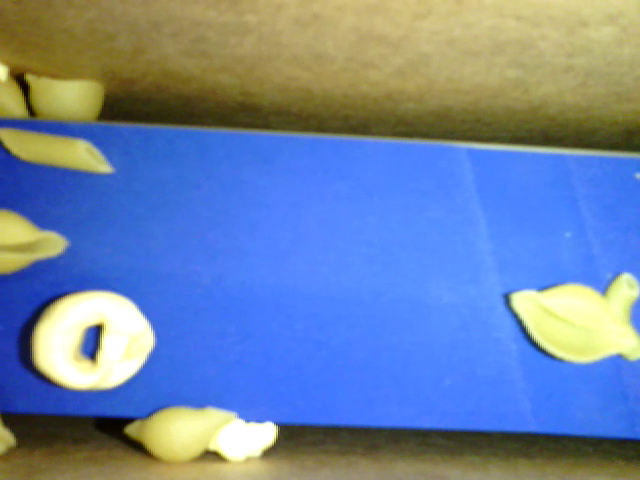elbow: (603, 269, 636, 362)
penne: (3, 128, 123, 177)
shell: (503, 276, 632, 364), (122, 402, 237, 464), (22, 70, 110, 124), (1, 209, 73, 274)
tortellini: (29, 288, 161, 398)
